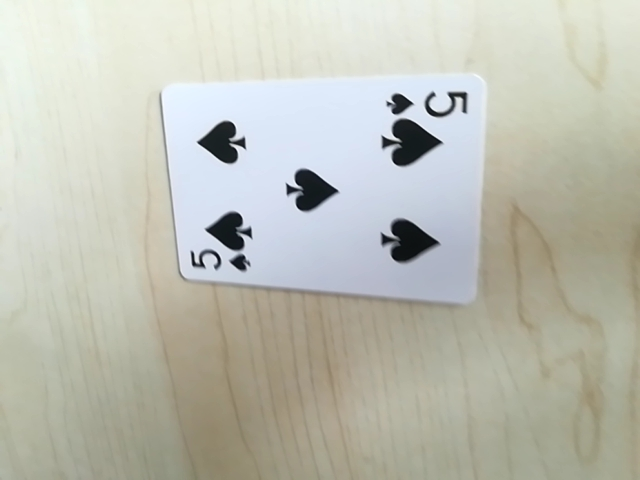ht 5: (384, 82, 469, 121), (185, 245, 256, 281)
